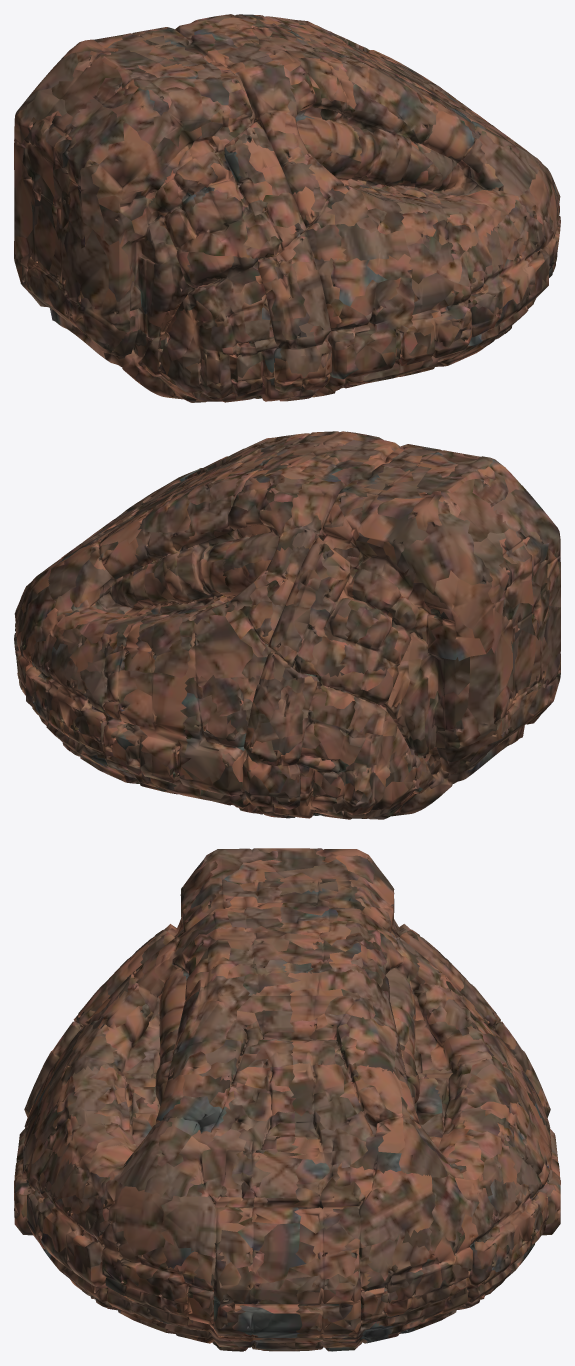
Rendered from arc-minesmith-lean.glb.
The picture shows the model from 3 angles, top to bottom: view 1: azimuth 30°, elevation 25°; view 2: azimuth 150°, elevation 25°; view 3: azimuth 270°, elevation 25°; orthographic projection. The views are drawn at different scales.
Visible parts, largest first — view 1: chassis; view 2: chassis; view 3: chassis.
Boxes of the visible parts, x1,y1,x2,y2 form: chassis: [14, 14, 560, 402]; chassis: [14, 431, 560, 819]; chassis: [14, 848, 560, 1351].
Size of the model in its own units: 0.99 by 0.6047 by 0.9063.
Materials: 1 (1 with a texture image).
